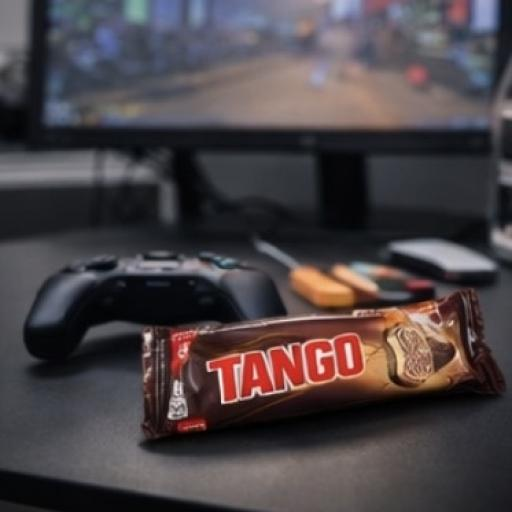tango: (99, 256, 512, 502)
